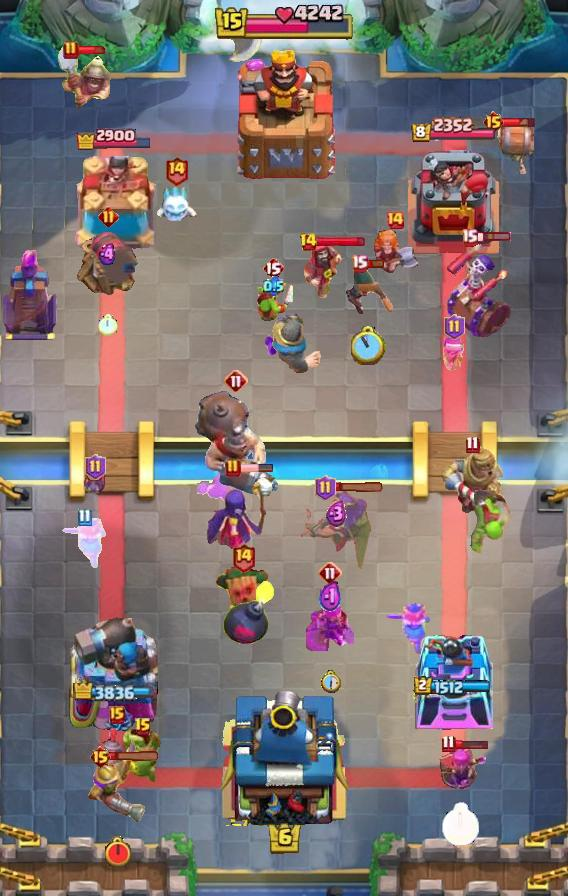axe: (204, 472, 280, 552)
baby-dragon: (222, 578, 276, 646)
bandit: (56, 46, 112, 120)
bar-level: (462, 490, 512, 556)
barbarian-barrel: (82, 471, 108, 497)
barbarian-hut: (296, 487, 376, 575)
bat: (154, 187, 198, 225)
bomb-tower: (86, 760, 150, 826)
bowler: (301, 241, 343, 299)
clock: (213, 3, 355, 43)
electro-spirit: (319, 581, 342, 616), (325, 500, 346, 528), (97, 242, 119, 266), (263, 275, 284, 296)
elixir: (440, 802, 479, 847), (350, 327, 385, 366), (103, 836, 133, 868), (320, 671, 341, 694), (98, 314, 118, 336)
emote: (315, 235, 366, 248), (109, 750, 161, 762), (333, 483, 385, 494), (475, 231, 512, 243), (502, 116, 538, 128), (454, 738, 490, 750), (238, 463, 274, 473), (76, 45, 108, 55), (365, 259, 385, 270)
evolution-symbol: (306, 585, 354, 651), (434, 744, 486, 802)
firecracker: (271, 313, 322, 373)
flying-machine: (120, 726, 166, 782)
goblin: (440, 337, 468, 373)
goblin-barrel: (214, 567, 272, 633)
hog-rider: (60, 516, 108, 570), (384, 602, 432, 656), (370, 226, 420, 276)
ice-spirit-evolution-symbol: (0, 250, 60, 342)
king-tower: (214, 684, 354, 826), (229, 43, 339, 181)
knight: (484, 123, 534, 177)
princess: (96, 728, 138, 786)
queen-tower: (403, 146, 503, 256), (68, 156, 160, 256), (412, 623, 494, 731)
ram-rider: (432, 443, 512, 527)
royal-giant: (206, 16, 262, 72)
royal-giant-evolution: (74, 228, 142, 298)
selected: (411, 116, 498, 143), (75, 126, 153, 150), (414, 676, 492, 696), (73, 683, 155, 701)
skeleton-king-bar: (446, 241, 516, 341)
tesla: (343, 262, 393, 318)
text: (163, 154, 188, 185), (231, 543, 256, 574), (224, 369, 248, 393), (318, 561, 342, 585), (482, 110, 505, 134), (88, 745, 111, 769), (444, 314, 465, 340), (85, 454, 106, 480), (316, 475, 337, 501), (262, 256, 284, 280), (98, 205, 119, 226), (385, 210, 405, 230), (298, 232, 317, 252), (134, 717, 152, 737), (351, 255, 369, 273), (63, 40, 79, 60), (225, 458, 241, 478), (462, 229, 479, 247), (109, 706, 125, 724), (76, 509, 91, 527), (440, 735, 455, 753), (465, 435, 479, 454)
tower-bar: (68, 611, 160, 731)
wizard: (192, 389, 280, 497)
zap: (251, 279, 295, 323)
